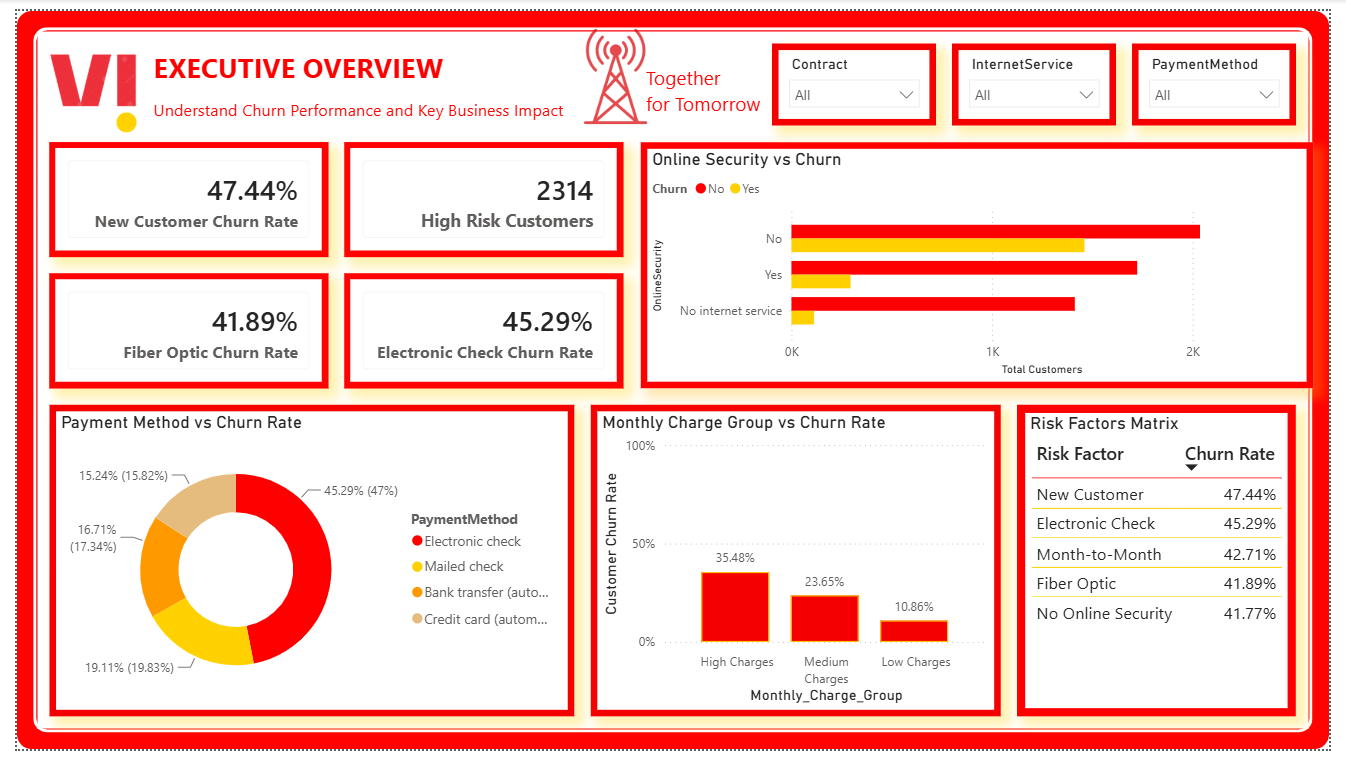

The dashboard page shown, as its layout file describes it:
{"tool":"powerbi","page":{"name":"Customer Risk Analysis","canvas":[1280,720],"ordinal":1},"visuals":[{"type":"shape","box":[0,0,1280,720],"z":0},{"type":"shape","box":[16,16,1248,688],"z":1000},{"type":"image","box":[16,16,128,128],"z":2000},{"type":"textbox","box":[128,32,352,48],"z":3000},{"type":"textbox","box":[128,80,480,48],"z":4000},{"type":"textbox","box":[608,48,128,64],"z":5000},{"type":"image","box":[528,16,112,96],"z":6000},{"type":"cardVisual","fields":{"Data":["Telco_Dataset.High Risk Customers"]},"box":[320,128,272,112],"z":7000},{"type":"cardVisual","fields":{"Data":["Telco_Dataset.New Customer Churn Rate"]},"box":[32,128,272,112],"z":8000},{"type":"cardVisual","fields":{"Data":["Telco_Dataset.Fiber Optic Churn Rate"]},"box":[32,256,272,112],"z":9000},{"type":"cardVisual","title":"nuubhn","fields":{"Data":["Telco_Dataset.Electronic Check Churn Rate"]},"box":[320,256,272,112],"z":10000},{"type":"clusteredColumnChart","title":"Monthly Charge Group vs Churn Rate","fields":{"Category":["Telco_Dataset.Monthly_Charge_Group"],"Y":["Telco_Dataset.CHURN RATE"]},"box":[560,384,400,304],"z":11000},{"type":"donutChart","title":"Payment Method vs Churn Rate","fields":{"Category":["Telco_Dataset.PaymentMethod"],"Y":["Telco_Dataset.CHURN RATE"]},"box":[32,384,512,304],"z":12000},{"type":"clusteredBarChart","title":"Online Security vs Churn","fields":{"Category":["Telco_Dataset.OnlineSecurity"],"Series":["Telco_Dataset.Churn"],"Y":["Telco_Dataset.TOTAL CUSTOMERS"]},"box":[608,128,656,240],"z":13000},{"type":"tableEx","title":"Risk Factors Matrix","fields":{"Values":["Risk_Factors.Risk Factor","Risk_Factors.Churn Rate"]},"box":[976,384,272,304],"z":14000},{"type":"slicer","title":"CONTRACT","fields":{"Values":["Telco_Dataset.Contract"]},"box":[736,32,160,80],"z":15000},{"type":"slicer","title":"CONTRACT","fields":{"Values":["Telco_Dataset.PaymentMethod"]},"box":[1088,32,160,80],"z":16000},{"type":"slicer","title":"CONTRACT","fields":{"Values":["Telco_Dataset.InternetService"]},"box":[912,32,160,80],"z":17000}]}

Visuals, with their boxes in screenshot pixels (x1, y1, x2, y2), scaled from the page's 1280x720 canvas onto the 1346x762 screenshot:
shape: {"left": 0, "top": 0, "right": 1345, "bottom": 761}
shape: {"left": 17, "top": 17, "right": 1329, "bottom": 745}
image: {"left": 17, "top": 17, "right": 151, "bottom": 152}
textbox: {"left": 135, "top": 34, "right": 505, "bottom": 85}
textbox: {"left": 135, "top": 85, "right": 639, "bottom": 135}
textbox: {"left": 639, "top": 51, "right": 774, "bottom": 119}
image: {"left": 555, "top": 17, "right": 673, "bottom": 119}
cardVisual - Telco_Dataset.High Risk Customers: {"left": 336, "top": 135, "right": 623, "bottom": 254}
cardVisual - Telco_Dataset.New Customer Churn Rate: {"left": 34, "top": 135, "right": 320, "bottom": 254}
cardVisual - Telco_Dataset.Fiber Optic Churn Rate: {"left": 34, "top": 271, "right": 320, "bottom": 389}
"nuubhn" cardVisual: {"left": 336, "top": 271, "right": 623, "bottom": 389}
"Monthly Charge Group vs Churn Rate" clusteredColumnChart: {"left": 589, "top": 406, "right": 1010, "bottom": 728}
"Payment Method vs Churn Rate" donutChart: {"left": 34, "top": 406, "right": 572, "bottom": 728}
"Online Security vs Churn" clusteredBarChart: {"left": 639, "top": 135, "right": 1329, "bottom": 389}
"Risk Factors Matrix" tableEx: {"left": 1026, "top": 406, "right": 1312, "bottom": 728}
"CONTRACT" slicer: {"left": 774, "top": 34, "right": 942, "bottom": 119}
"CONTRACT" slicer: {"left": 1144, "top": 34, "right": 1312, "bottom": 119}
"CONTRACT" slicer: {"left": 959, "top": 34, "right": 1127, "bottom": 119}
